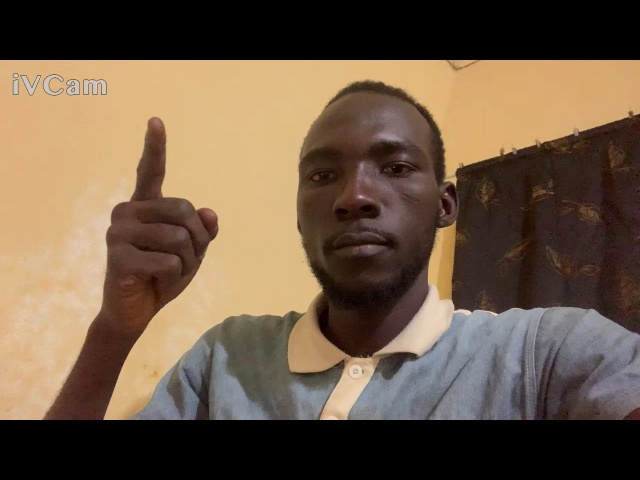tu: (101, 114, 224, 333)
